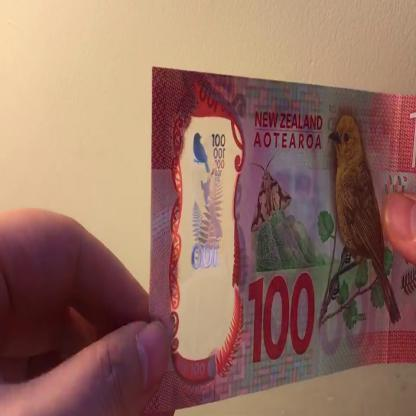100B: (188, 124, 231, 328)
